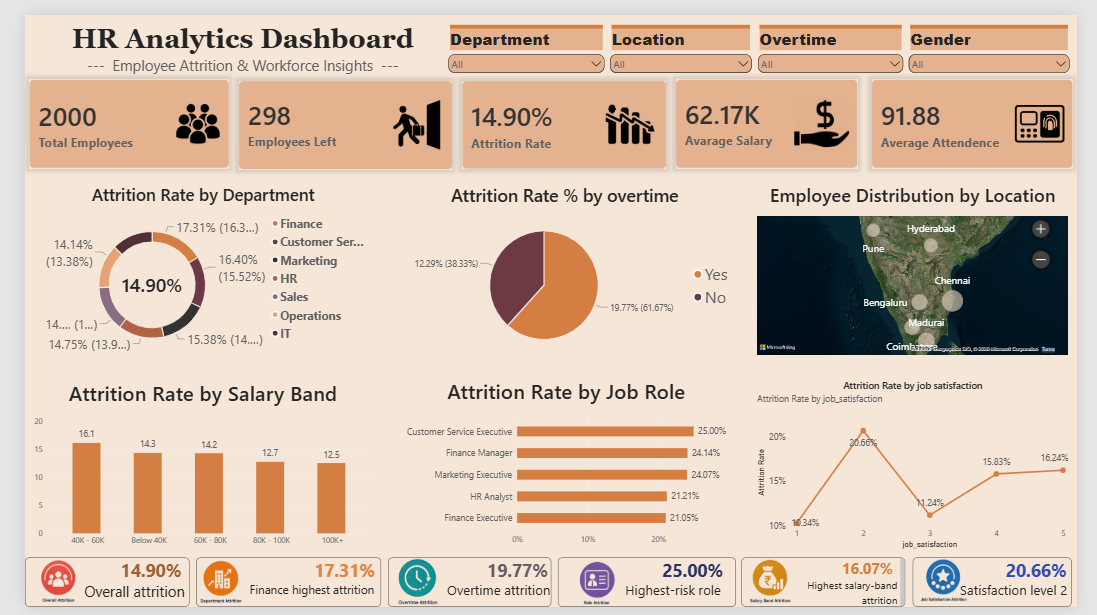

What the dashboard file says about the page in this screenshot:
{"tool":"powerbi","page":{"name":"Page 1","canvas":[1920,1080],"ordinal":0},"visuals":[{"type":"cardVisual","fields":{"Data":["employees.Total Employees"]},"box":[7.5,117.5,365,162.5],"z":0},{"type":"cardVisual","fields":{"Data":["employees.Employees Left"]},"box":[390,120,390,162.5],"z":1000},{"type":"cardVisual","fields":{"Data":["employees.Attrition Rate"]},"box":[797.5,120,373.3,161.1],"z":2000},{"type":"cardVisual","fields":{"Data":["employees.Avarage Salary"]},"box":[1187.5,117.5,332.5,162.5],"z":3000},{"type":"cardVisual","fields":{"Data":["employees.Average Attendence"]},"box":[1545,117.5,367.5,162.5],"z":4000},{"type":"donutChart","title":"Attrition Rate by Department","fields":{"Category":["employees.department"],"Y":["employees.Attrition Rate"]},"box":[0,292.5,650,345],"z":5000},{"type":"columnChart","title":"Attrition Rate by Salary Band","fields":{"Category":["vw_salary_attrition.salary_band"],"Y":["Sum(vw_salary_attrition.attrition_rate)"]},"box":[0,650,650,340],"z":6000},{"type":"pieChart","fields":{"Category":["public vw_overtime_attrition.overtime"],"Y":["vw_overtime_attrition.Attrition Rate %"]},"box":[662.5,292.5,645,345],"z":7000},{"type":"clusteredBarChart","title":"Attrition Rate by Job Role","fields":{"Category":["vw_job_role_attrition.job_role"],"Y":["vw_job_role_attrition.Attrition Rate on sat %"]},"box":[664.3,648.2,645,340],"z":8000},{"type":"map","title":"Employee Distribution by Location","fields":{"Size":["employees.Total Employees"],"Category":["employees.location"]},"box":[1320,292.5,600,345],"z":9000},{"type":"lineChart","title":"Attrition Rate by job satisfaction","fields":{"Category":["employees.job_satisfaction"],"Y":["employees.Attrition Rate"]},"box":[1320,650,600,320],"z":10000},{"type":"slicer","fields":{"Values":["employees.department"]},"box":[768.3,16.7,295,101.7],"z":11000},{"type":"slicer","fields":{"Values":["employees.location"]},"box":[1063.3,16.7,268.3,103.3],"z":12000},{"type":"slicer","fields":{"Values":["employees.overtime"]},"box":[1331.7,16.7,275,101.7],"z":13000},{"type":"slicer","fields":{"Values":["employees.gender"]},"box":[1606.7,16.7,303.3,101.7],"z":14000},{"type":"textbox","title":"HR Analytics Dashboard","box":[7.5,15,780,93.3],"z":15000},{"type":"textbox","box":[662.5,970,297.5,110],"z":16000},{"type":"textbox","box":[0,970,300,110],"z":17000},{"type":"textbox","box":[312.5,970,337.5,110],"z":18000},{"type":"image","box":[0,990,122.5,90],"z":19000},{"type":"image","box":[300,990,110,90],"z":20000},{"type":"textbox","box":[973.3,970,286.7,110],"z":21000},{"type":"textbox","box":[1271.7,970,336.7,110],"z":22000},{"type":"textbox","box":[1620,970,290,110],"z":23000},{"type":"image","box":[662.5,990,105,90],"z":24000},{"type":"image","box":[973.3,990,90,90],"z":25000},{"type":"image","box":[1271.7,990,100,90],"z":26000},{"type":"image","box":[1620,990,110,90],"z":27000}]}

Visuals, with their boxes in screenshot pixels (x1, y1, x2, y2), scaled from the page's 1920x1080 canvas onto the 1097x615 screenshot:
cardVisual - employees.Total Employees: {"left": 4, "top": 67, "right": 213, "bottom": 159}
cardVisual - employees.Employees Left: {"left": 223, "top": 68, "right": 446, "bottom": 161}
cardVisual - employees.Attrition Rate: {"left": 456, "top": 68, "right": 669, "bottom": 160}
cardVisual - employees.Avarage Salary: {"left": 678, "top": 67, "right": 868, "bottom": 159}
cardVisual - employees.Average Attendence: {"left": 883, "top": 67, "right": 1093, "bottom": 159}
"Attrition Rate by Department" donutChart: {"left": 0, "top": 167, "right": 371, "bottom": 363}
"Attrition Rate by Salary Band" columnChart: {"left": 0, "top": 370, "right": 371, "bottom": 564}
pieChart - public vw_overtime_attrition.overtime x vw_overtime_attrition.Attrition Rate %: {"left": 379, "top": 167, "right": 747, "bottom": 363}
"Attrition Rate by Job Role" clusteredBarChart: {"left": 380, "top": 369, "right": 748, "bottom": 563}
"Employee Distribution by Location" map: {"left": 754, "top": 167, "right": 1096, "bottom": 363}
"Attrition Rate by job satisfaction" lineChart: {"left": 754, "top": 370, "right": 1096, "bottom": 552}
slicer - employees.department: {"left": 439, "top": 10, "right": 608, "bottom": 67}
slicer - employees.location: {"left": 608, "top": 10, "right": 761, "bottom": 68}
slicer - employees.overtime: {"left": 761, "top": 10, "right": 918, "bottom": 67}
slicer - employees.gender: {"left": 918, "top": 10, "right": 1091, "bottom": 67}
"HR Analytics Dashboard" textbox: {"left": 4, "top": 9, "right": 450, "bottom": 62}
textbox: {"left": 379, "top": 552, "right": 548, "bottom": 614}
textbox: {"left": 0, "top": 552, "right": 171, "bottom": 614}
textbox: {"left": 179, "top": 552, "right": 371, "bottom": 614}
image: {"left": 0, "top": 564, "right": 70, "bottom": 614}
image: {"left": 171, "top": 564, "right": 234, "bottom": 614}
textbox: {"left": 556, "top": 552, "right": 720, "bottom": 614}
textbox: {"left": 727, "top": 552, "right": 919, "bottom": 614}
textbox: {"left": 926, "top": 552, "right": 1091, "bottom": 614}
image: {"left": 379, "top": 564, "right": 439, "bottom": 614}
image: {"left": 556, "top": 564, "right": 608, "bottom": 614}
image: {"left": 727, "top": 564, "right": 784, "bottom": 614}
image: {"left": 926, "top": 564, "right": 988, "bottom": 614}
